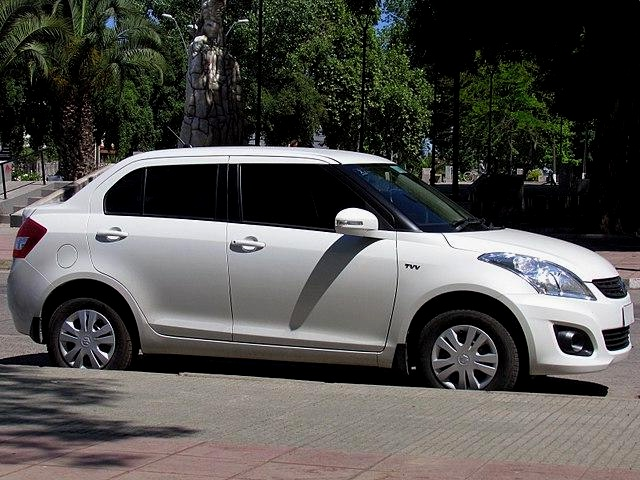car: (0, 105, 639, 439)
